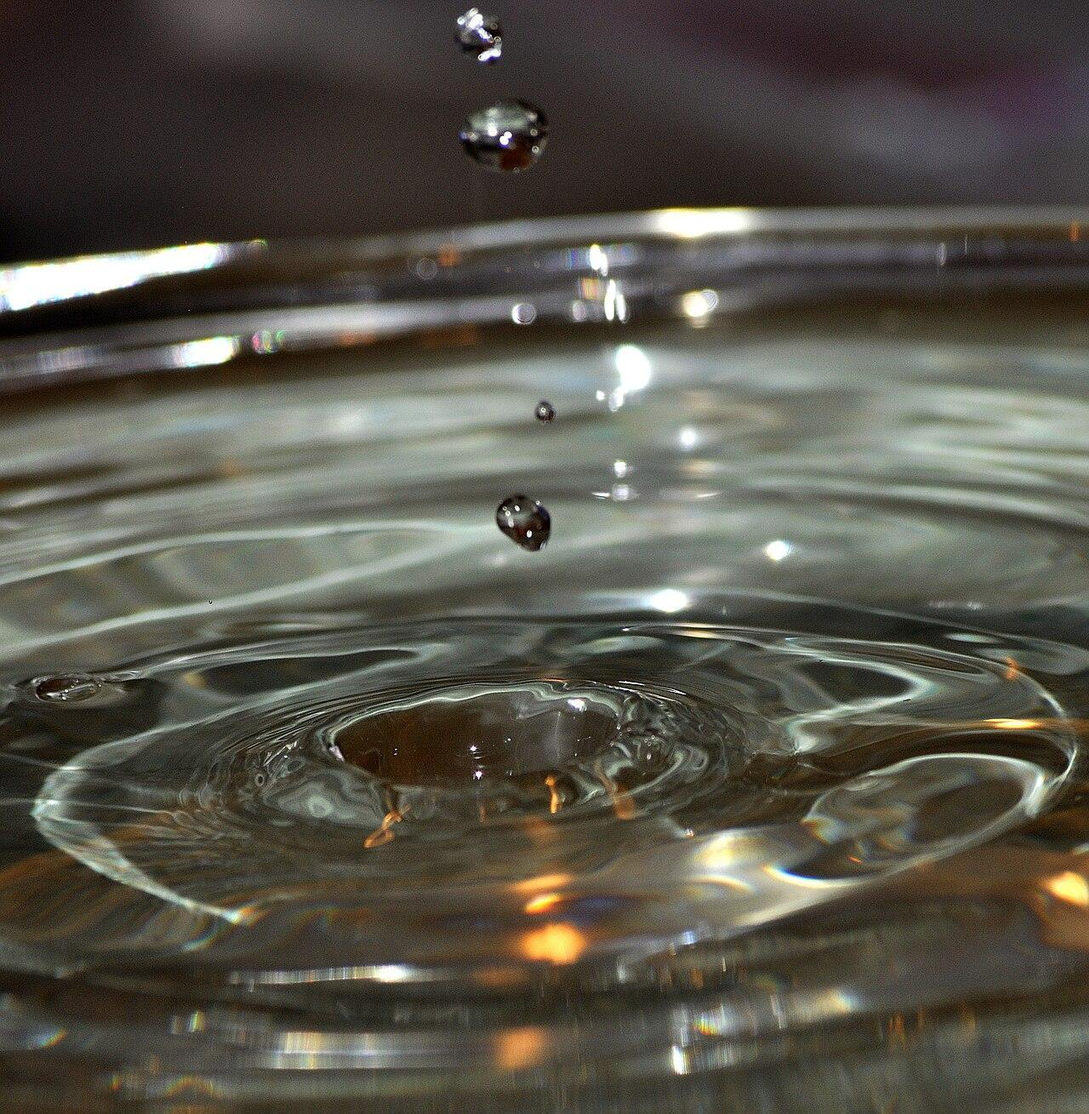water drop: (454, 100, 550, 175), (490, 497, 557, 553), (451, 9, 506, 71)
